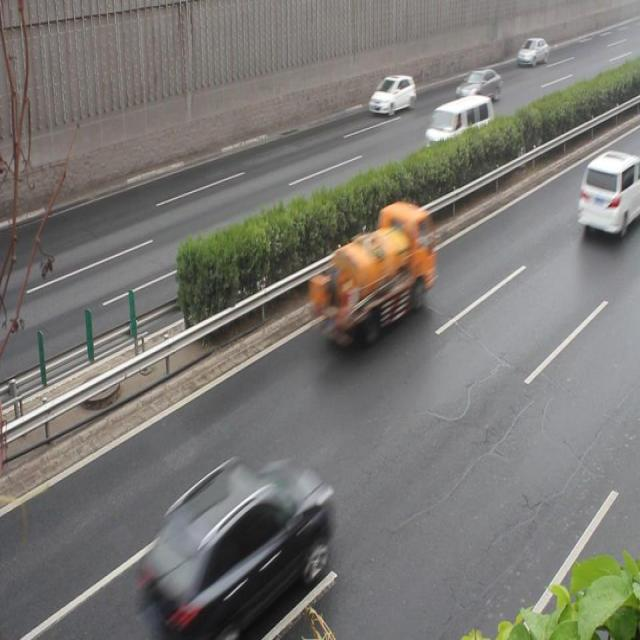bus: (314, 202, 433, 335)
car: (149, 451, 332, 628), (577, 150, 640, 239), (370, 75, 414, 116), (456, 68, 501, 105), (514, 36, 547, 68)
truck: (425, 95, 493, 159)
